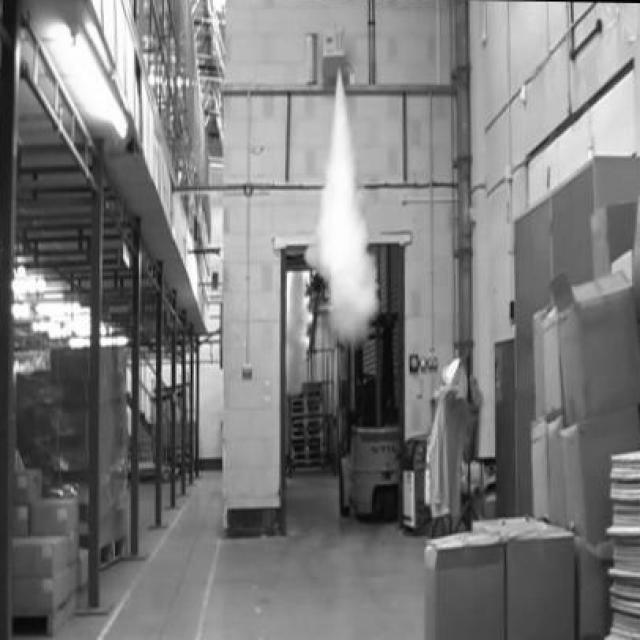fire: (286, 105, 389, 358)
